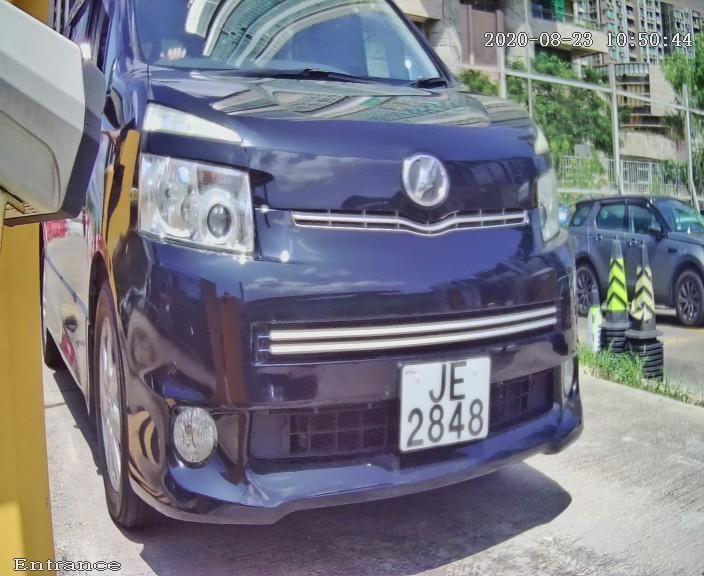License Plate: (387, 348, 497, 463)
